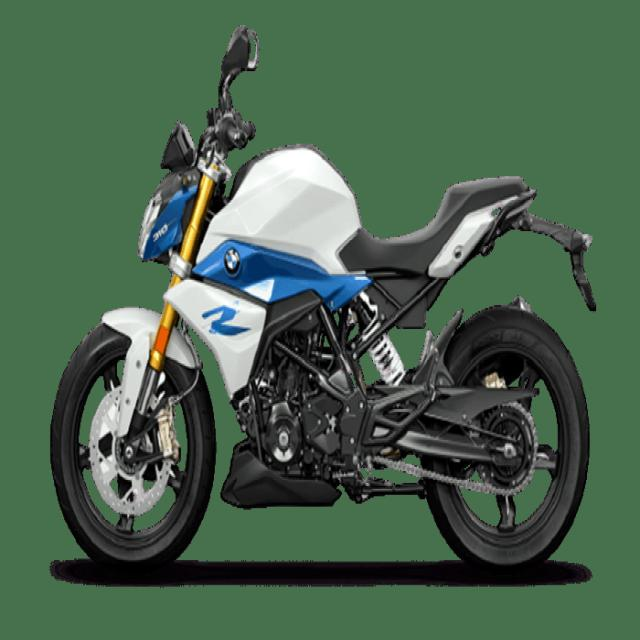Bike: (55, 20, 601, 584)
